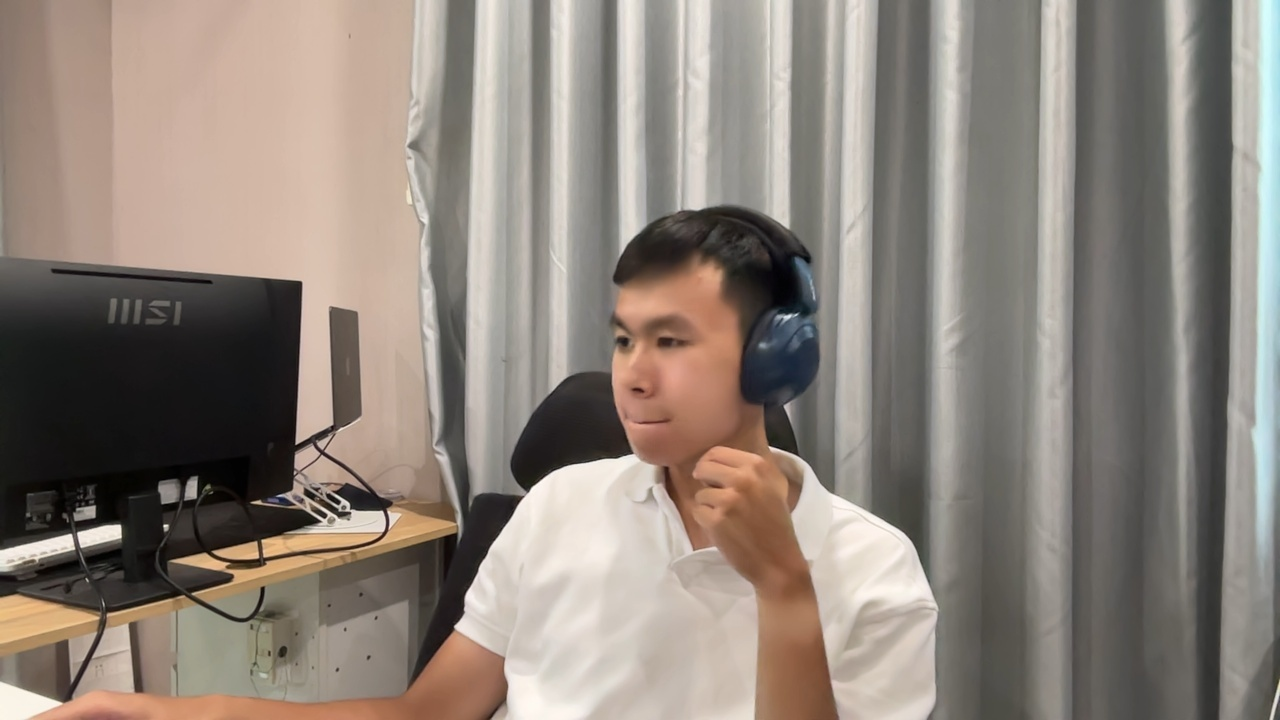over_ear: (689, 205, 823, 413), (731, 214, 822, 413)
